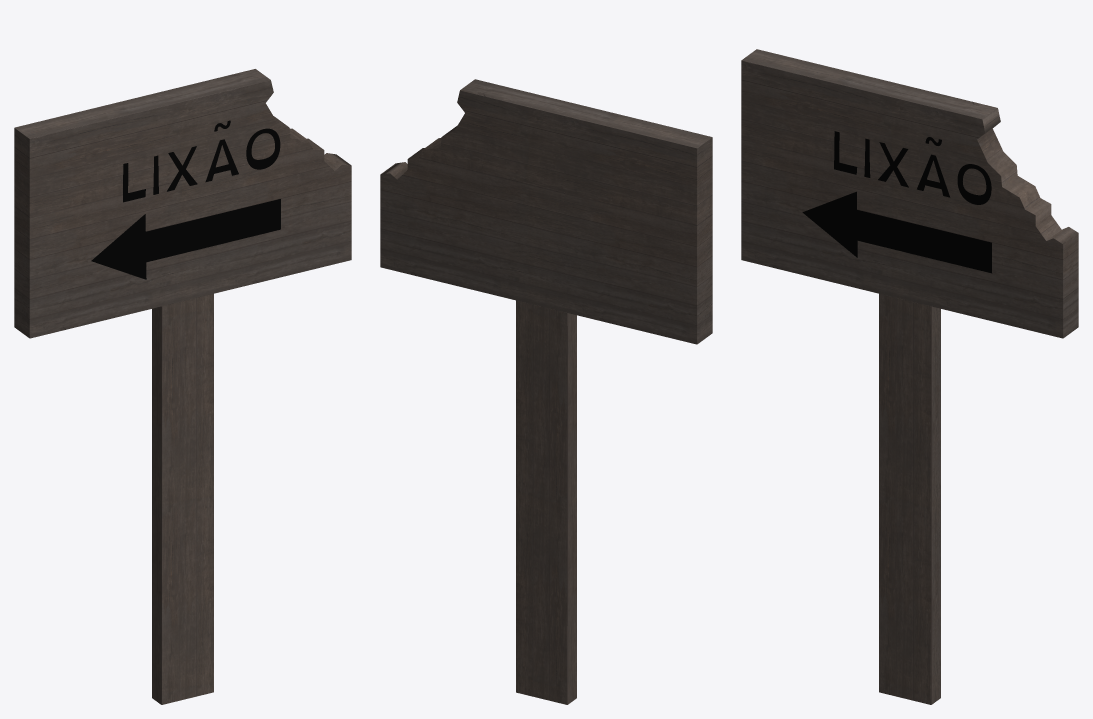
File: SM_Placa_Lixao.fbx
The picture shows the model from 3 angles, left to right: view 1: azimuth 30°, elevation 25°; view 2: azimuth 150°, elevation 25°; view 3: azimuth 330°, elevation 25°; orthographic projection.
Parts seen in each view (by area): view 1: placa, decal; view 2: placa; view 3: placa, decal.
Part boxes in pixels (x1,y1,x2,y2): placa: (14, 69, 351, 704); decal: (91, 120, 280, 279); placa: (380, 79, 712, 704); placa: (741, 49, 1078, 704); decal: (802, 131, 991, 273).
Size of the model in its own units: 129 by 249 by 10.86.
